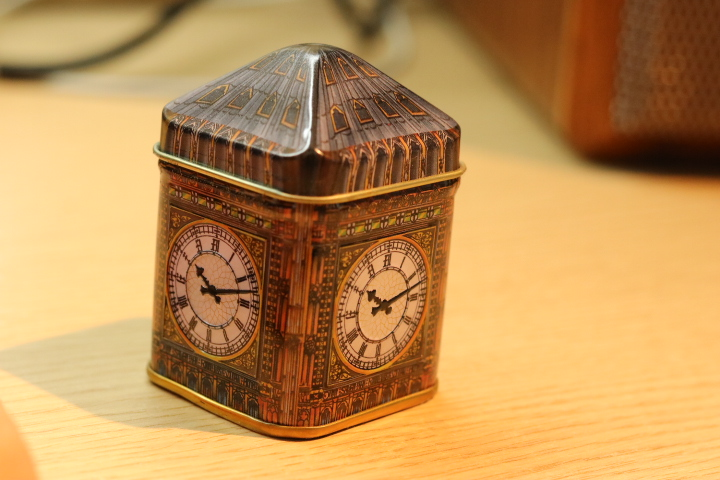Big Ben: (143, 41, 471, 446)
